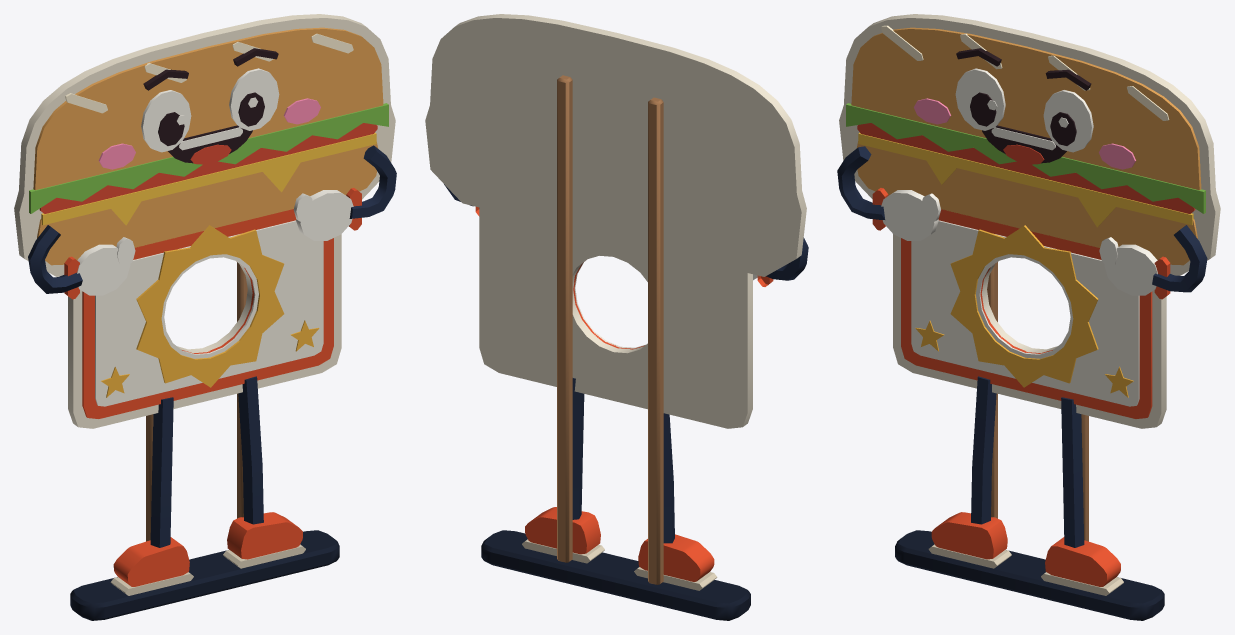
File: Lobby_PhotoCutout.fbx
3 views of the same model, side by side, from view 1: azimuth 30°, elevation 25°; view 2: azimuth 150°, elevation 25°; view 3: azimuth 330°, elevation 25° (orthographic).
Visible parts, largest first — view 1: Bun, SignPanel, Board, Red, Starburst, White, Limbs, Base, Lettuce, Cheese, Tomato, Ink (+4 smaller); view 2: Board, Posts, Base, Red, Limbs, Soles; view 3: Bun, SignPanel, Board, Red, Starburst, White, Limbs, Base, Lettuce, Cheese, Tomato, Ink (+4 smaller).
Boxes of the visible parts, <box> form: Bun: <box>33,27,383,265</box>; SignPanel: <box>95,220,323,406</box>; Board: <box>14,14,395,428</box>; Red: <box>64,188,361,586</box>; Starburst: <box>101,225,319,397</box>; White: <box>77,68,353,295</box>; Limbs: <box>28,145,396,547</box>; Base: <box>70,530,339,620</box>; Lettuce: <box>29,103,388,213</box>; Cheese: <box>41,133,376,225</box>; Tomato: <box>39,123,377,213</box>; Ink: <box>143,48,278,163</box>; Board: <box>425,14,806,428</box>; Posts: <box>557,75,663,584</box>; Base: <box>481,530,750,620</box>; Red: <box>475,206,773,581</box>; Limbs: <box>444,184,808,543</box>; Soles: <box>522,539,717,590</box>; Bun: <box>851,27,1201,265</box>; SignPanel: <box>911,220,1139,406</box>; Board: <box>839,14,1220,428</box>; Red: <box>872,188,1170,586</box>; Starburst: <box>915,225,1133,397</box>; White: <box>881,68,1157,295</box>; Limbs: <box>837,146,1207,547</box>; Base: <box>895,530,1164,620</box>; Lettuce: <box>846,103,1205,213</box>; Cheese: <box>858,132,1193,227</box>; Tomato: <box>857,123,1195,213</box>; Ink: <box>956,48,1091,163</box>.
Size of the model in its own units: 496 by 692 by 60.
